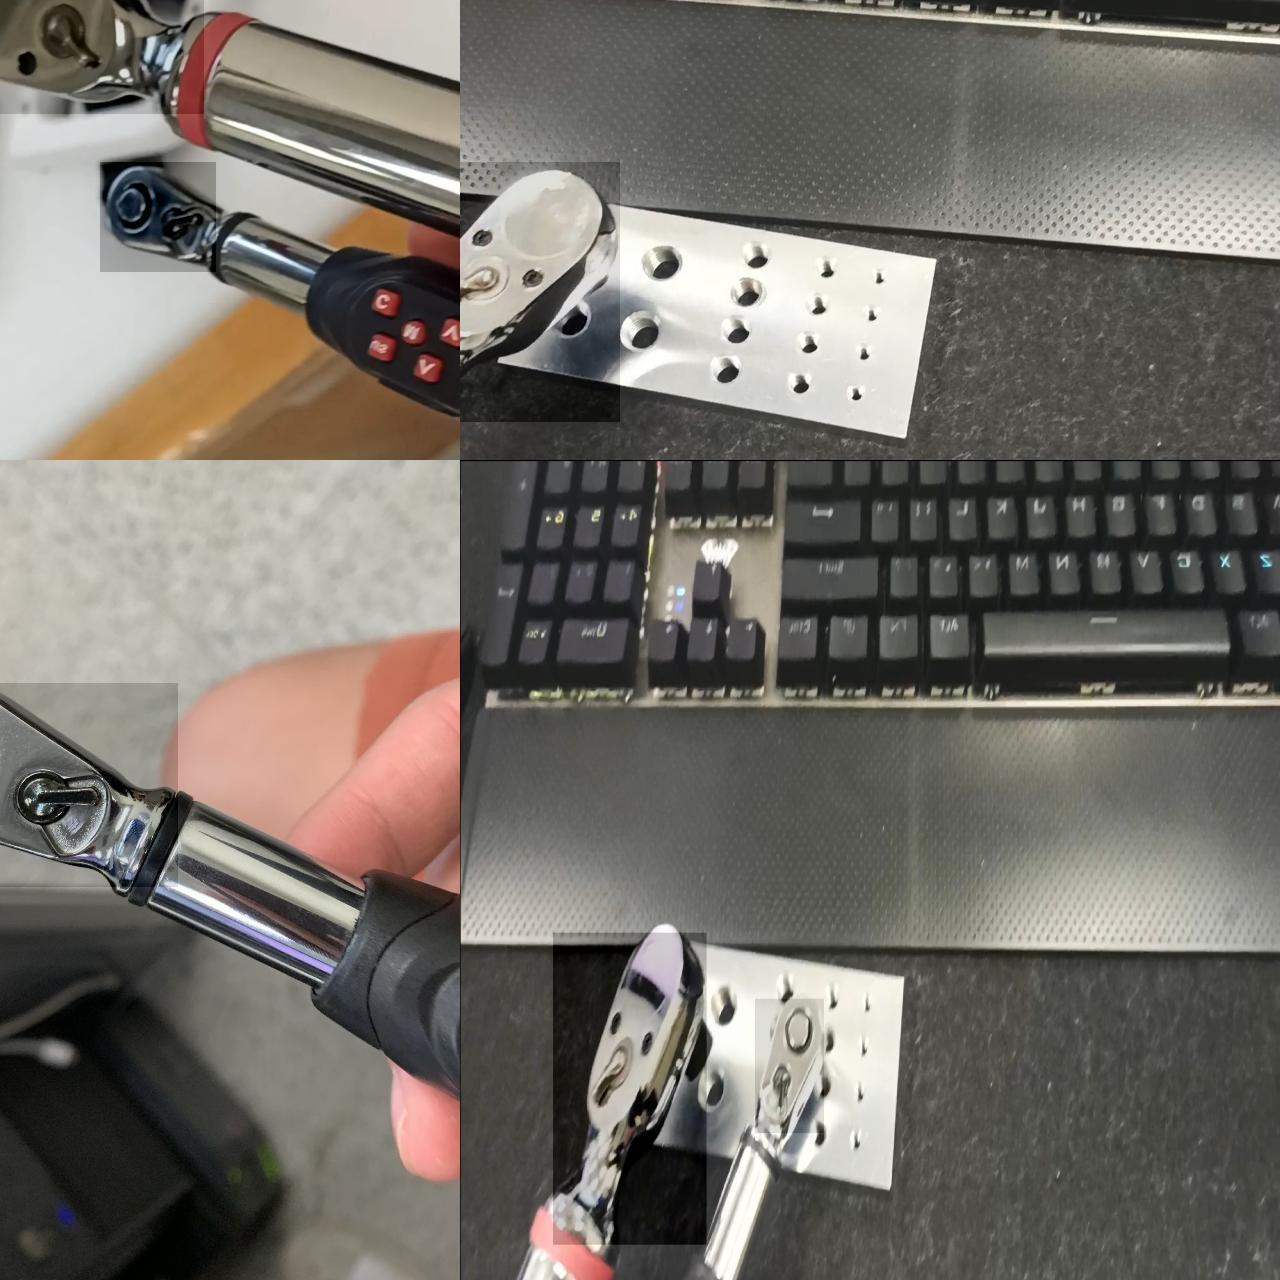Tool: (552, 932, 706, 1244), (460, 161, 619, 421), (0, 682, 177, 886), (0, 0, 203, 113), (99, 161, 215, 271), (754, 998, 823, 1132)
